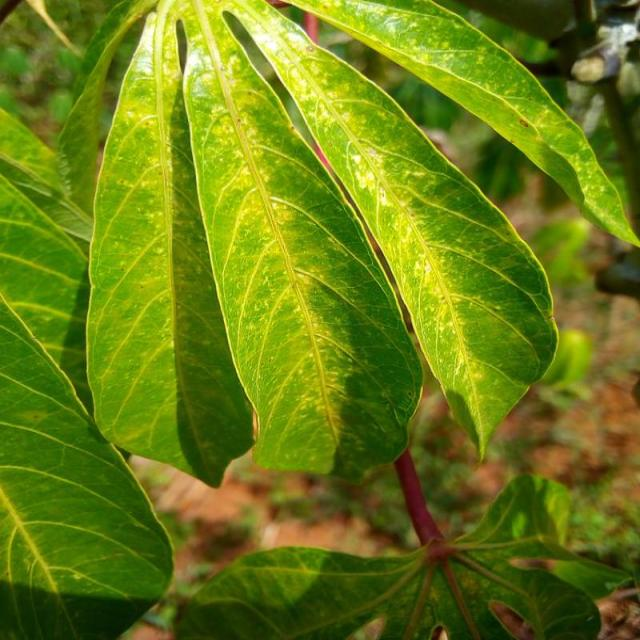cassava leaf: (84, 0, 559, 485), (0, 104, 174, 637), (281, 0, 638, 249), (83, 2, 257, 489)
